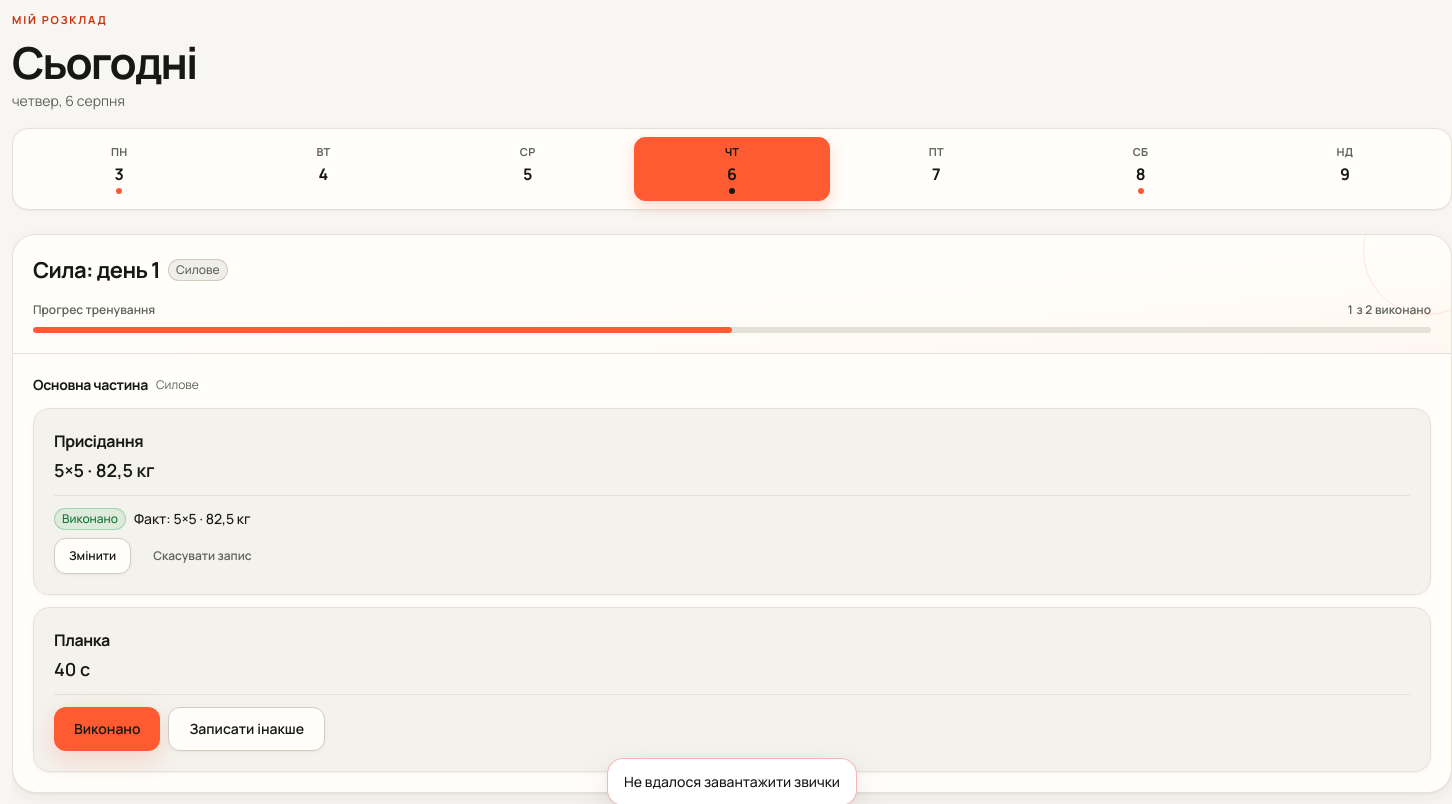
it: workout logging › undoes a record through DELETE and returns the card to pending
The image size is (1452, 804).
Expected: the heading "Присідання" is shown, x1=54 y1=430 x2=143 y2=452
Click the button "Скасувати запис" at (202, 556), box x1=139 y1=538 x2=266 y2=574
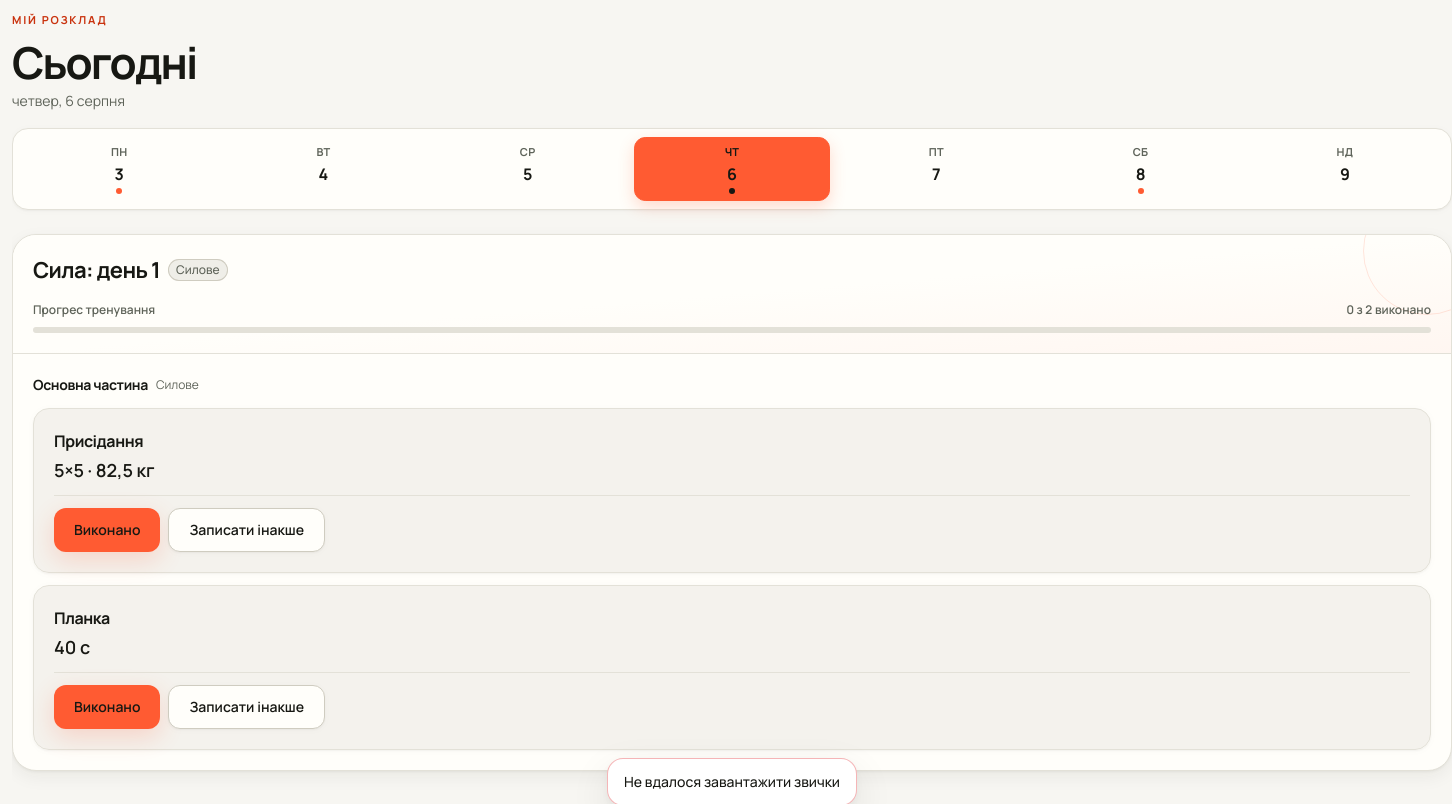
Now the button "Виконано" below "5×5 · 82,5 кг" is shown, box x1=54 y1=508 x2=160 y2=552
Now the text "0 з 2 виконано" is shown, box x1=1347 y1=301 x2=1431 y2=319
